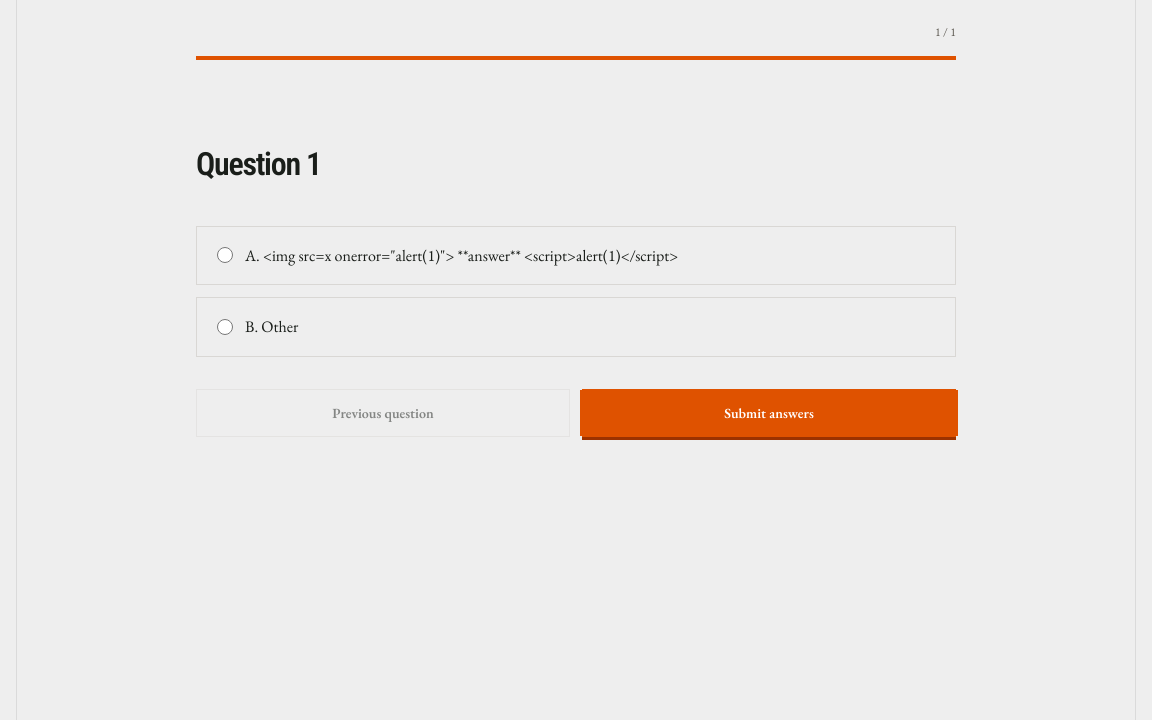
Test: shows the submitted literal markup beside its feedback and model answer
Expected: the heading "Question 1" is shown, x1=196 y1=145 x2=321 y2=183
Click the 1st radio button at (225, 255), box x1=217 y1=247 x2=233 y2=263
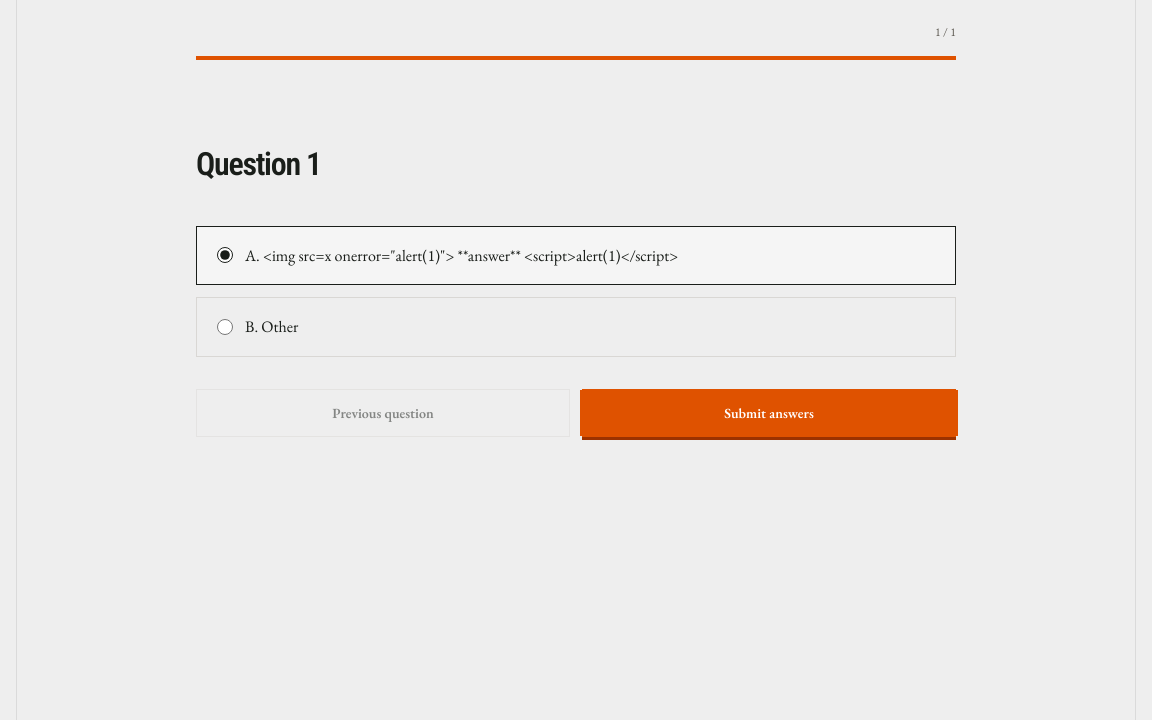
// Click the text, exercising the implicit native label association after wrapping it.
Click the button "Submit answers" at (769, 413), box x1=582 y1=389 x2=956 y2=437
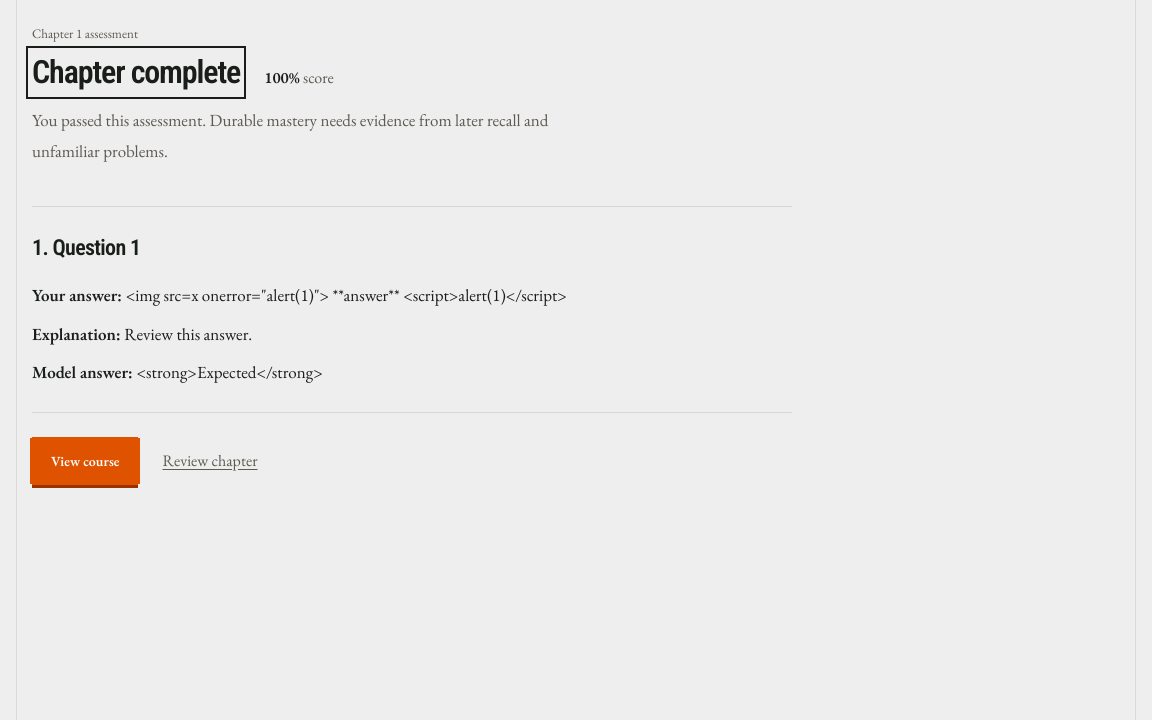
Now the heading "Chapter complete" is shown, box x1=32 y1=52 x2=240 y2=93
